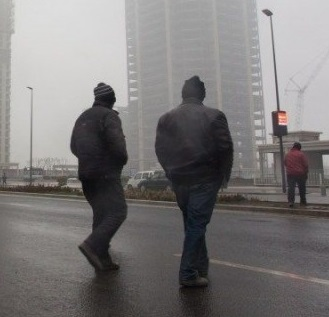person: (154, 75, 234, 291), (68, 79, 131, 276), (283, 141, 312, 207)
